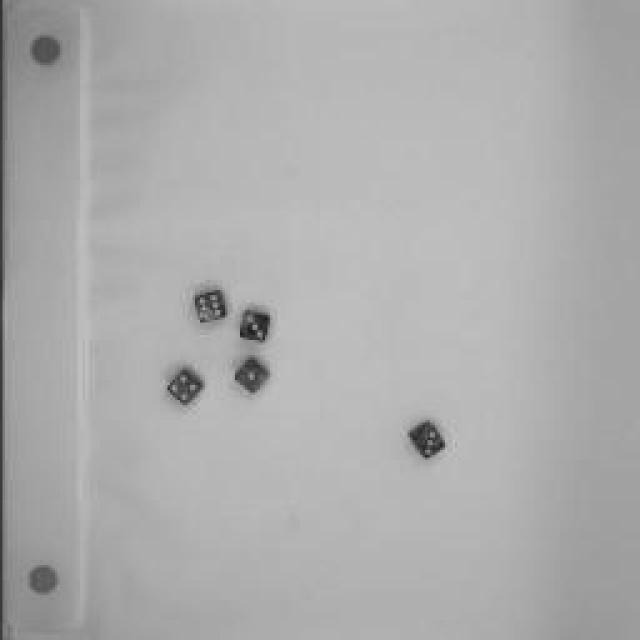dice_1: (231, 356, 269, 402)
dice_3: (402, 418, 448, 464), (234, 309, 274, 349)
dice_4: (160, 365, 208, 415)
dice_6: (188, 285, 230, 327)
